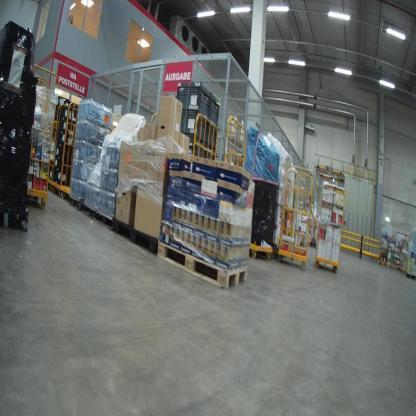pallet: (158, 241, 251, 292)
